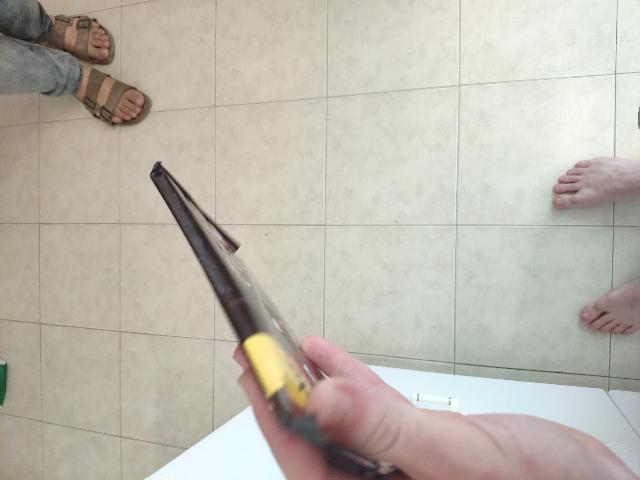chocolate: (153, 165, 377, 474)
